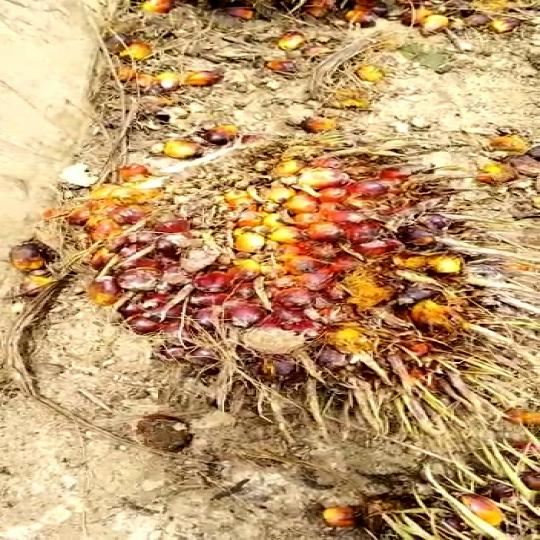masak: (47, 123, 528, 446)
